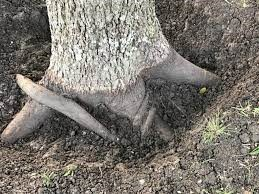dirt: (2, 141, 256, 190), (158, 3, 254, 64), (148, 72, 215, 127), (1, 1, 49, 76), (217, 66, 256, 139)
tree: (5, 0, 216, 151)
